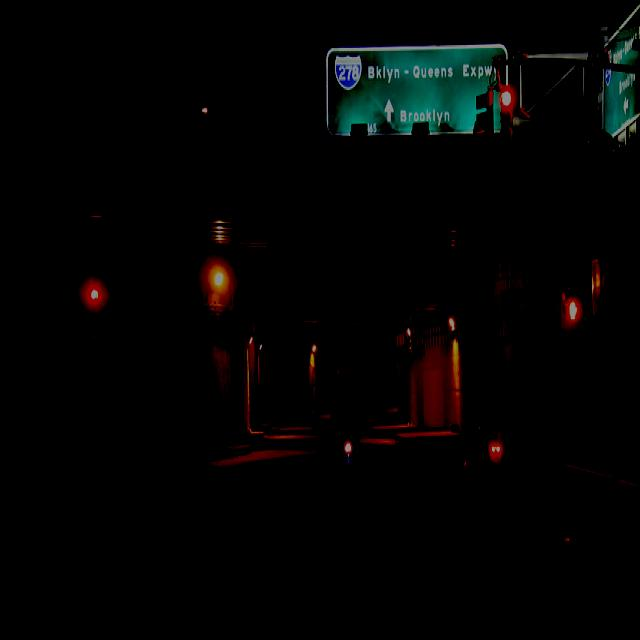Motorbike: (451, 419, 512, 549), (320, 419, 372, 532)
